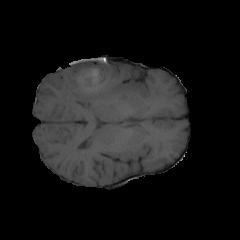glioma: (64, 58, 134, 106)
